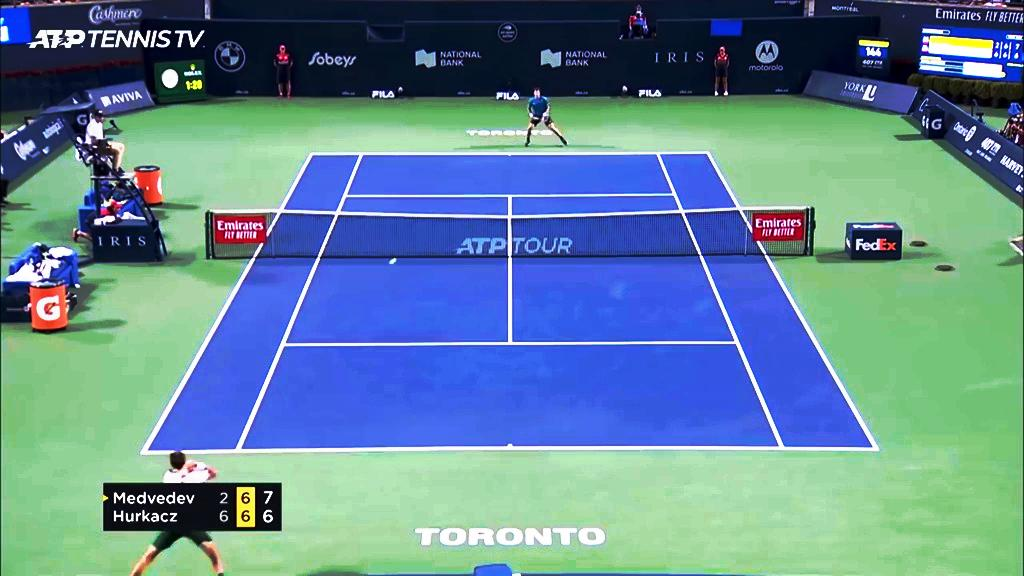tennis-court: (140, 152, 880, 454)
